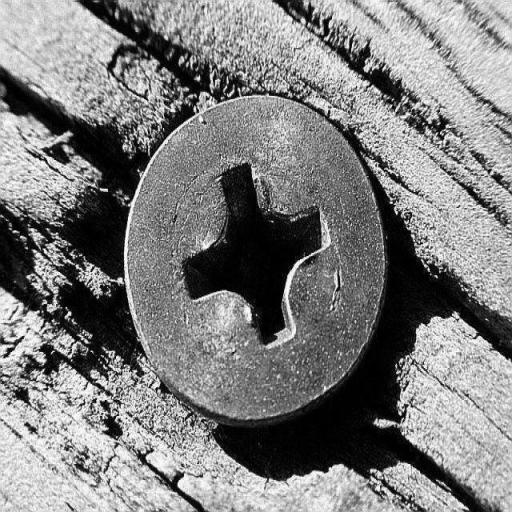Phillips: (126, 92, 391, 438)
